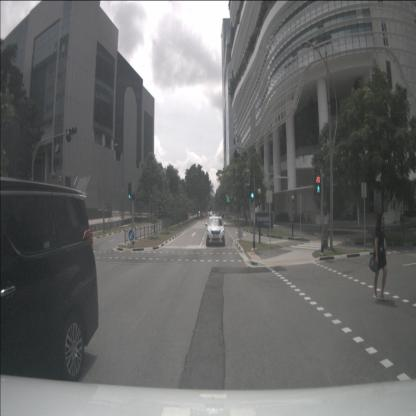human-pedestrian-adult: (370, 210, 388, 301), (399, 206, 404, 228)
vehicle-car: (0, 176, 99, 416), (207, 216, 226, 246)
